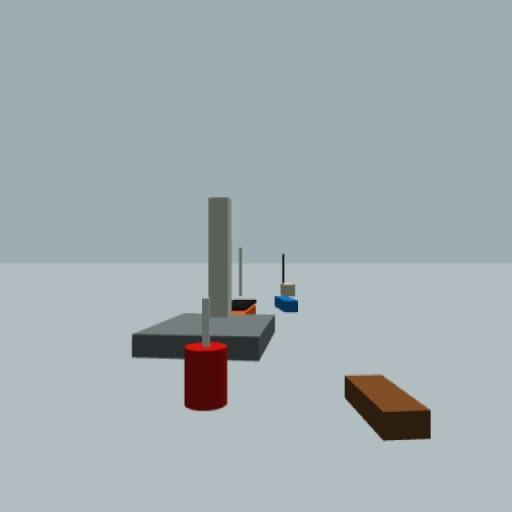debris_container: (342, 372, 434, 442)
fishing_boat: (274, 252, 300, 314)
floating_obstacle: (184, 296, 228, 412)
platform: (130, 196, 276, 359)
